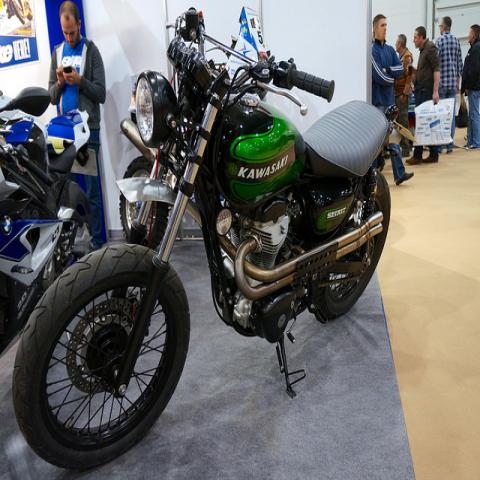motorcycle: (15, 10, 396, 469), (0, 88, 97, 355)
